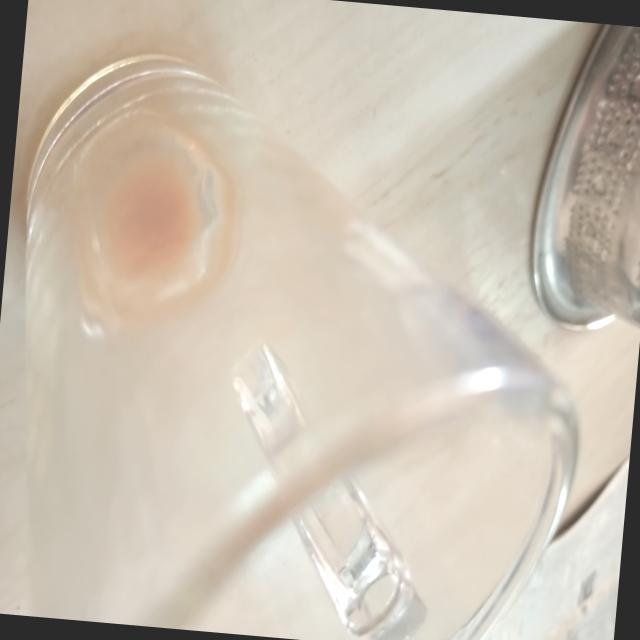glass-VX4N: (0, 37, 613, 640)
